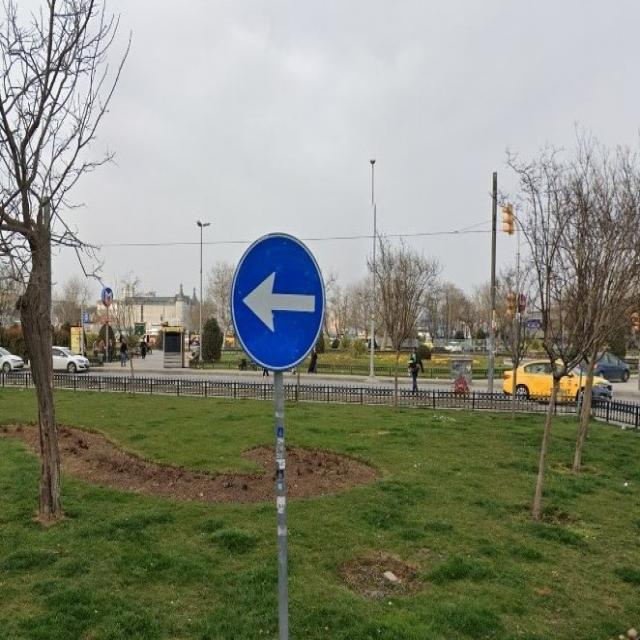Turn Left: (235, 234, 326, 375)
